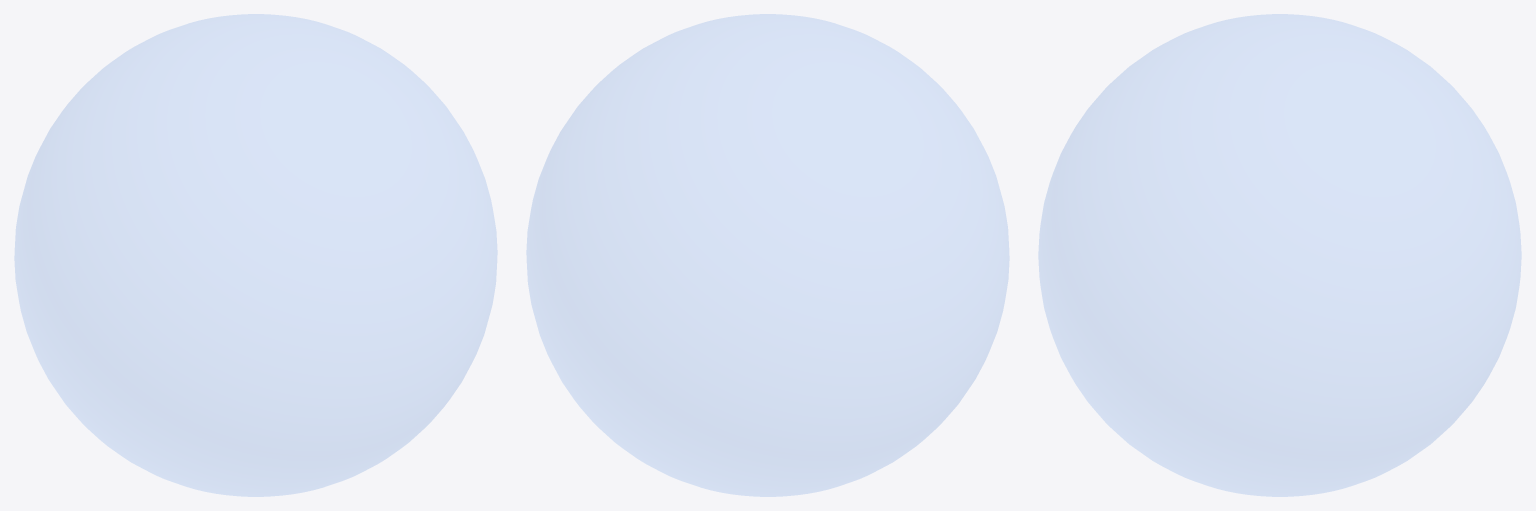
File: moon.glb
The picture shows the model from 3 angles, left to right: view 1: azimuth 30°, elevation 25°; view 2: azimuth 150°, elevation 25°; view 3: azimuth 270°, elevation 25°; orthographic projection.
Parts seen in each view (by area): view 1: Glow0; view 2: Glow0; view 3: Glow0.
Boxes of the visible parts, x1,y1,x2,y2 form: Glow0: (14,14,497,496); Glow0: (526,14,1009,496); Glow0: (1038,14,1521,496).
Size of what is drawn, in the model's own units: 2.04 by 2.04 by 2.04.
